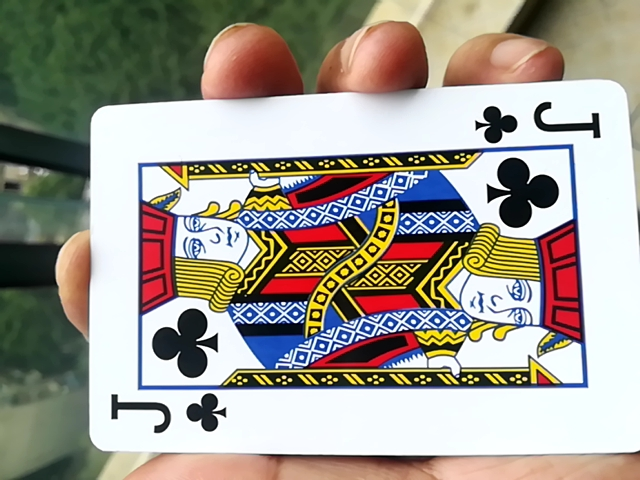mh j: (61, 99, 632, 465)
